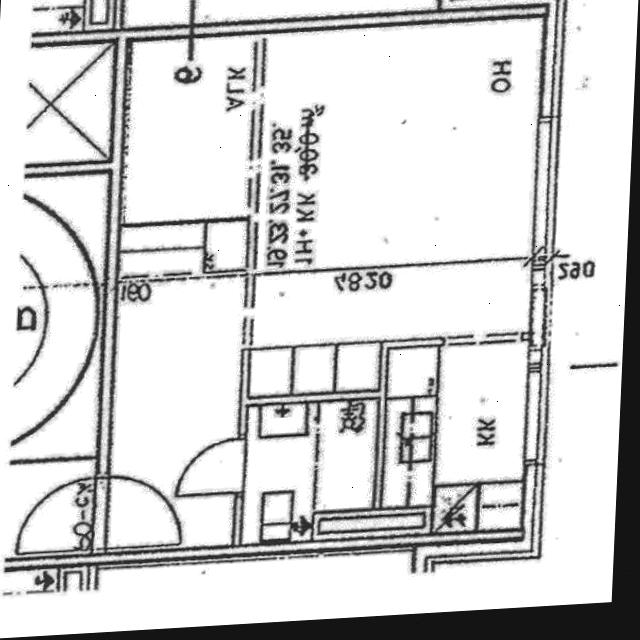room: (104, 270, 244, 559), (379, 335, 528, 537), (232, 398, 386, 545)
